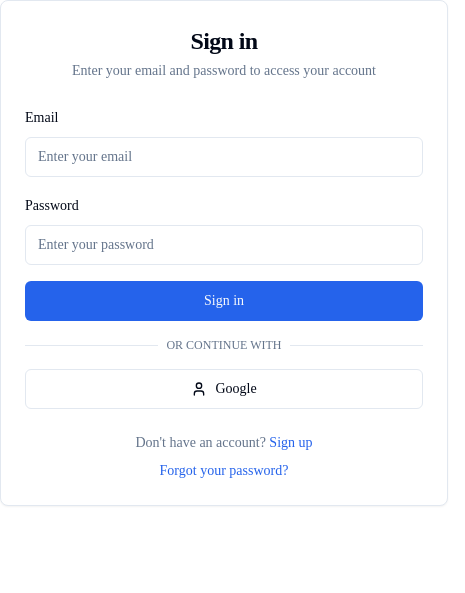
LoginForm › shows error message for failed login
The image size is (465, 593).
Type "test@example.com" into the field labelled "Email".
click(224, 157); type("test@example.com")  # box [25, 137, 423, 177]
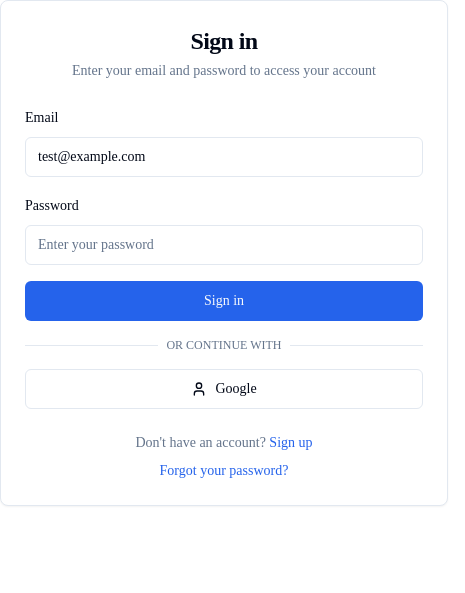
Type "wrongpassword" into the password field labelled "Password".
click(224, 245); type("wrongpassword")  # box [25, 225, 423, 265]
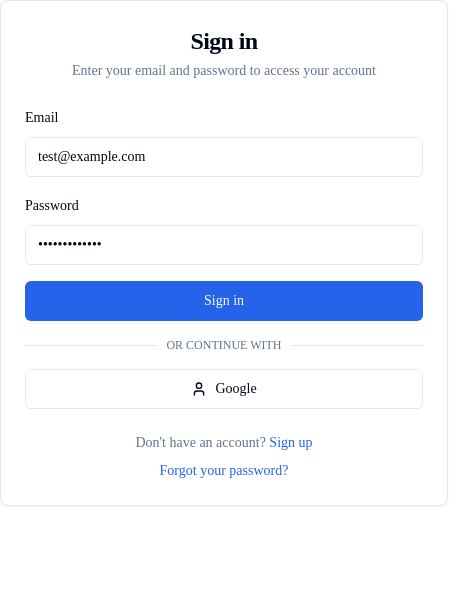
Click the button "Sign in".
click(224, 301)  # box [25, 281, 423, 321]
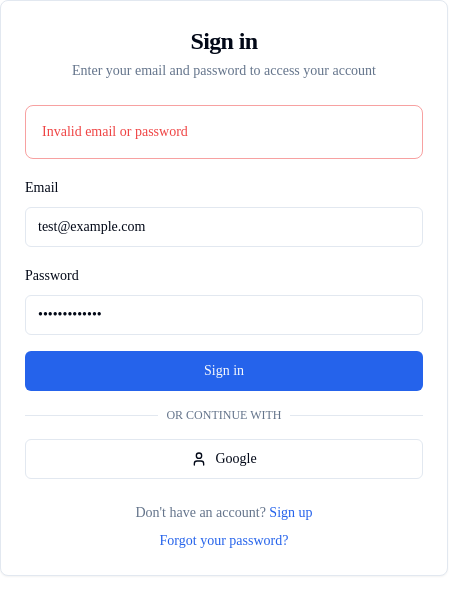
Now the text "Invalid email or password" is shown, box [42, 124, 188, 139]
